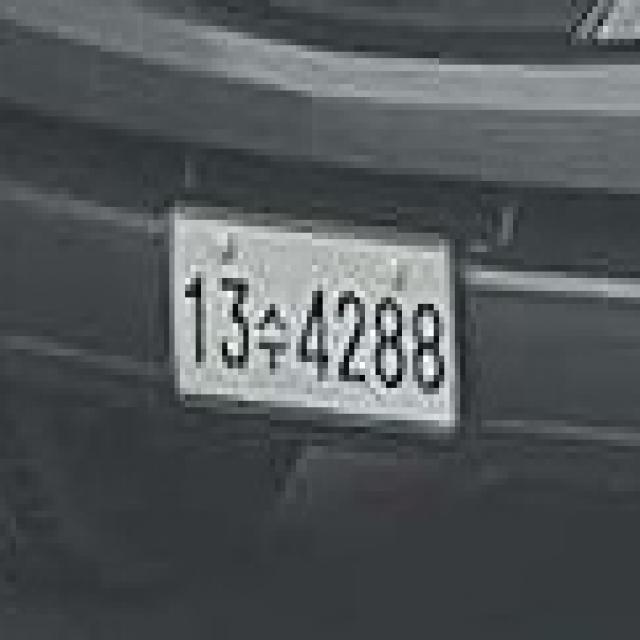1: (174, 265, 212, 381)
2: (333, 284, 376, 394)
3: (212, 272, 259, 382)
4: (291, 278, 333, 394)
8: (407, 298, 450, 408), (370, 284, 408, 394)
license_plate: (158, 200, 466, 446)
su: (254, 298, 291, 382)
